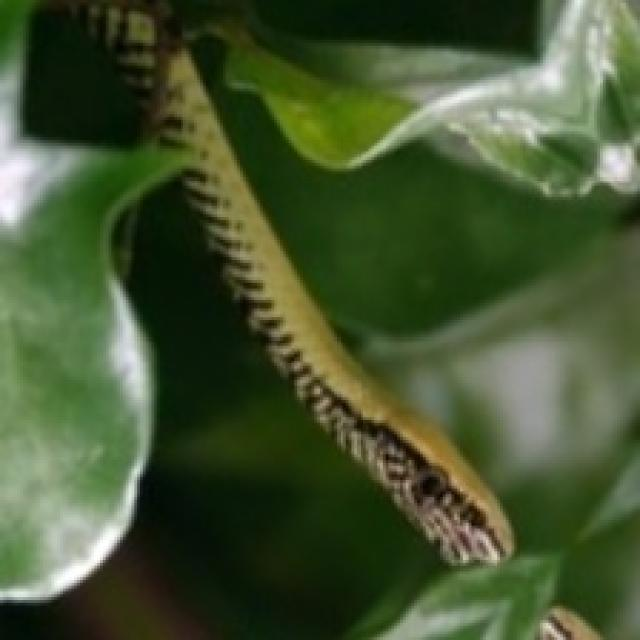paradise tree snake: (0, 0, 637, 637), (66, 0, 511, 563), (466, 49, 597, 126)
